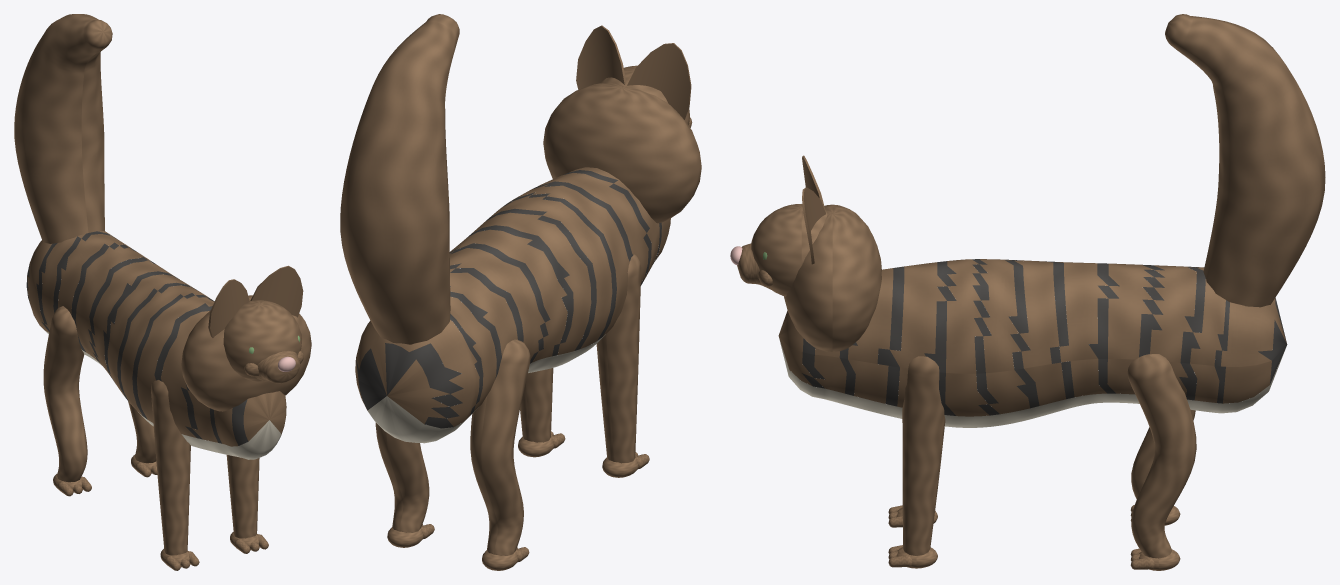
The model's file is pets-and-companions-hd-maine-coon-8a2ad7aa__28147.glb.
3 renders of one model, left to right at view 1: azimuth 30°, elevation 25°; view 2: azimuth 150°, elevation 25°; view 3: azimuth 270°, elevation 25°, orthographic. The views are drawn at different scales.
Parts seen in each view (by area): view 1: maine-coon; view 2: maine-coon; view 3: maine-coon.
Boxes of the visible parts, x1,y1,x2,y2 form: maine-coon: (14, 14, 311, 570); maine-coon: (340, 14, 701, 570); maine-coon: (730, 14, 1325, 570).
Bounding box in the file's own units: 0.176 × 0.6162 × 0.6263.
6 materials, 3 textured.
